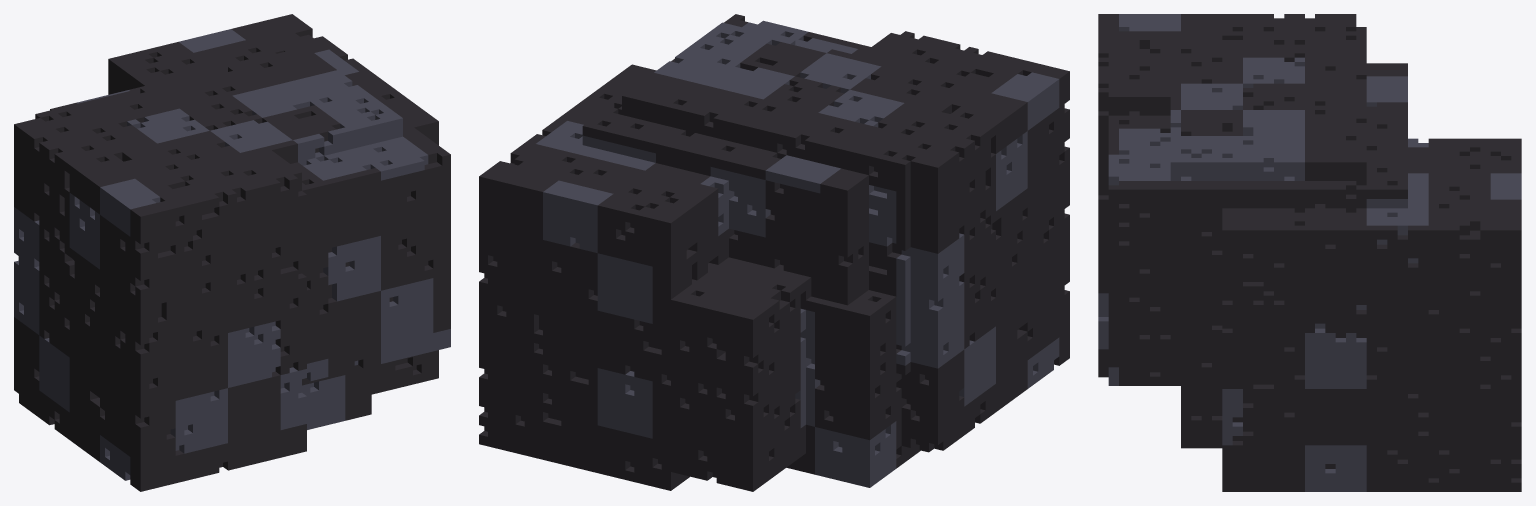
Rendered from rock_island_2.obj.
The picture shows the model from 3 angles, left to right: view 1: azimuth 30°, elevation 25°; view 2: azimuth 150°, elevation 25°; view 3: azimuth 270°, elevation 25°; orthographic projection. The views are drawn at different scales.
Bounding box in the file's own units: 1.02 × 0.8 × 1.02.
Materials: 1 (1 with a texture image).
